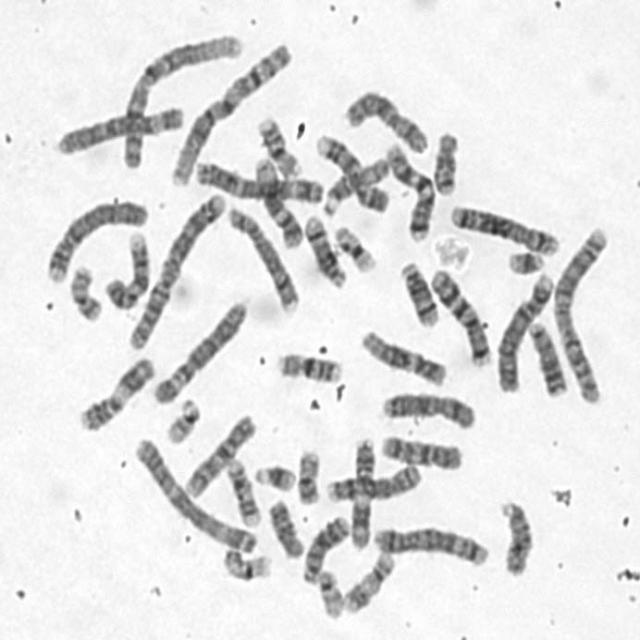A1: (165, 36, 295, 188), (116, 28, 245, 172)
A2: (122, 185, 229, 352), (548, 220, 615, 403)
A3: (129, 432, 259, 556), (192, 154, 328, 206)
B4: (42, 192, 152, 286), (493, 266, 556, 395)
B5: (446, 197, 562, 257), (368, 519, 491, 568)
C10: (179, 408, 260, 500), (376, 428, 466, 472)
C11: (74, 350, 158, 434), (346, 431, 377, 551)
C12: (357, 323, 449, 389), (250, 150, 306, 250)
C6: (149, 292, 251, 407), (51, 98, 188, 158)
C7: (425, 261, 494, 368), (381, 137, 437, 243)
C8: (223, 199, 302, 315), (322, 457, 425, 504)
C9: (311, 128, 390, 216), (101, 226, 152, 312)
D13: (299, 510, 353, 586), (524, 316, 570, 398)
D14: (300, 209, 348, 290), (395, 256, 442, 328)
D15: (319, 150, 394, 217), (495, 493, 535, 578)
E16: (253, 109, 304, 179), (273, 346, 346, 385)
E17: (339, 546, 398, 616), (222, 454, 264, 528)
E18: (264, 492, 308, 560), (429, 124, 463, 197)
F19: (330, 219, 379, 274), (219, 543, 275, 583)
F20: (65, 258, 105, 324), (292, 443, 324, 506)
G21: (250, 457, 298, 493), (503, 244, 548, 276)
G22: (161, 392, 202, 445), (313, 564, 347, 621)
X: (339, 82, 432, 156), (376, 386, 479, 432)
